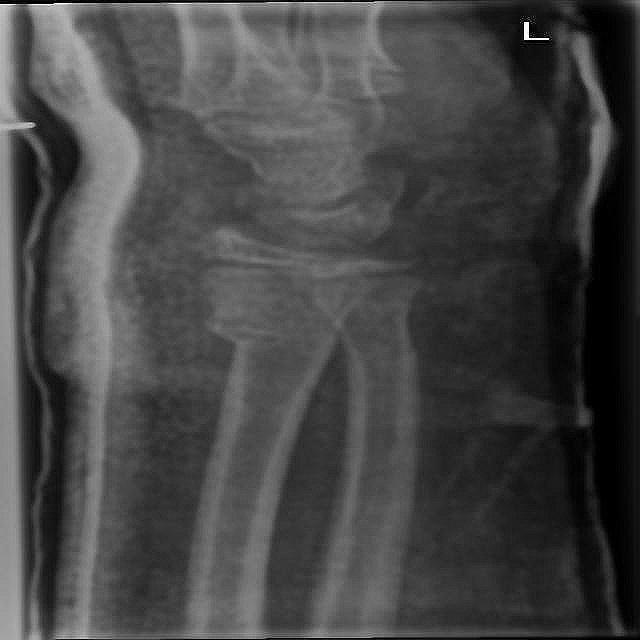bone: (199, 304, 342, 358), (338, 325, 426, 376)
